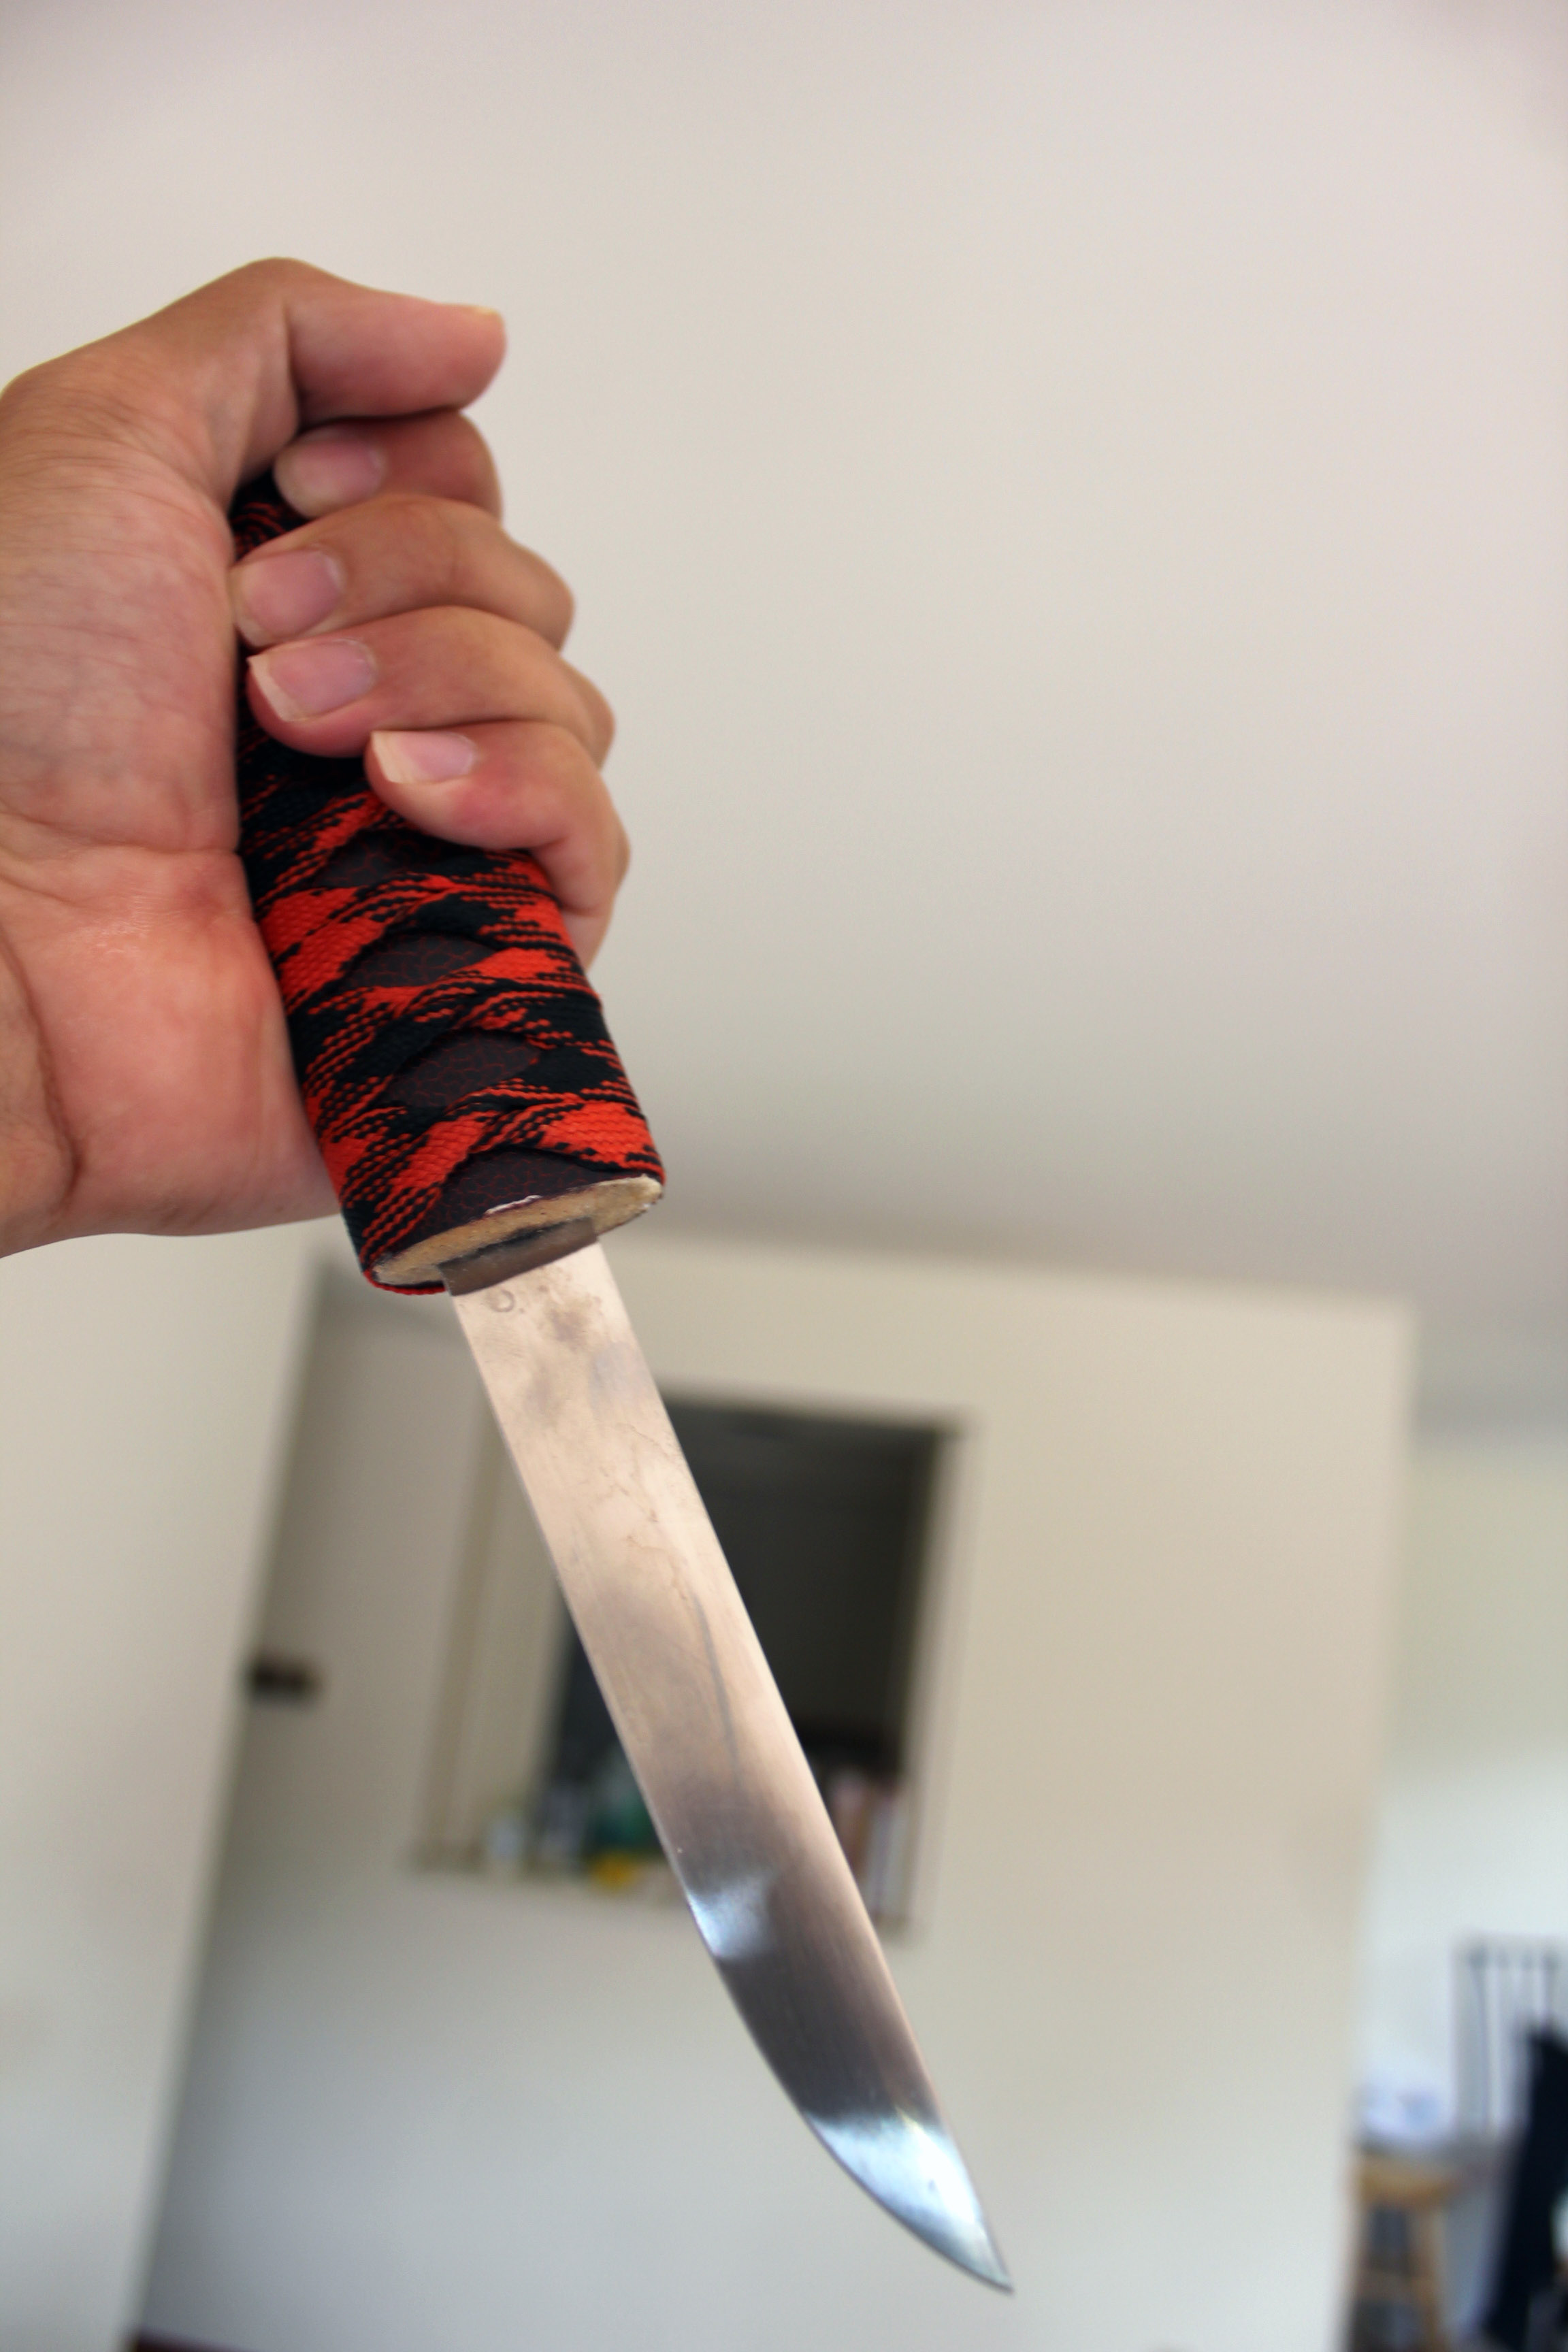knife: (114, 416, 1083, 2335)
